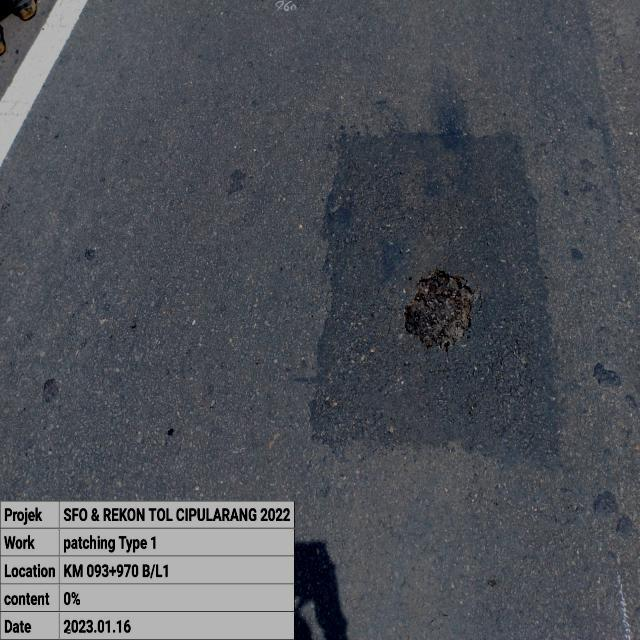Buraco: (399, 264, 480, 356)
